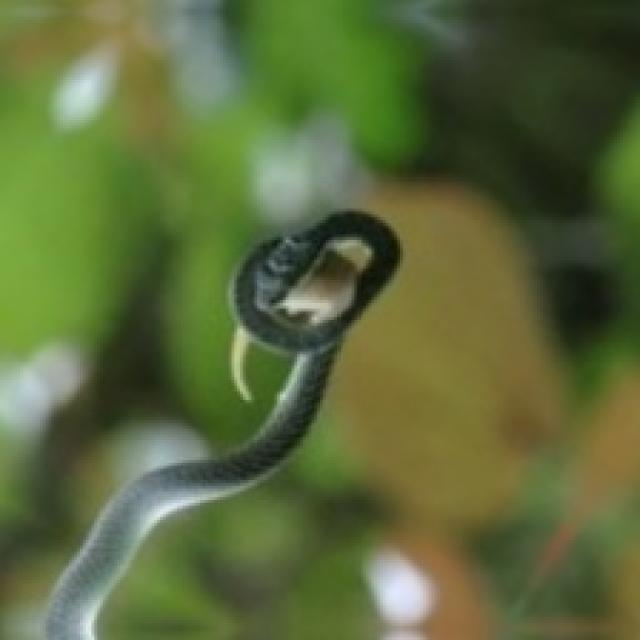paradise tree snake: (46, 211, 397, 637)
